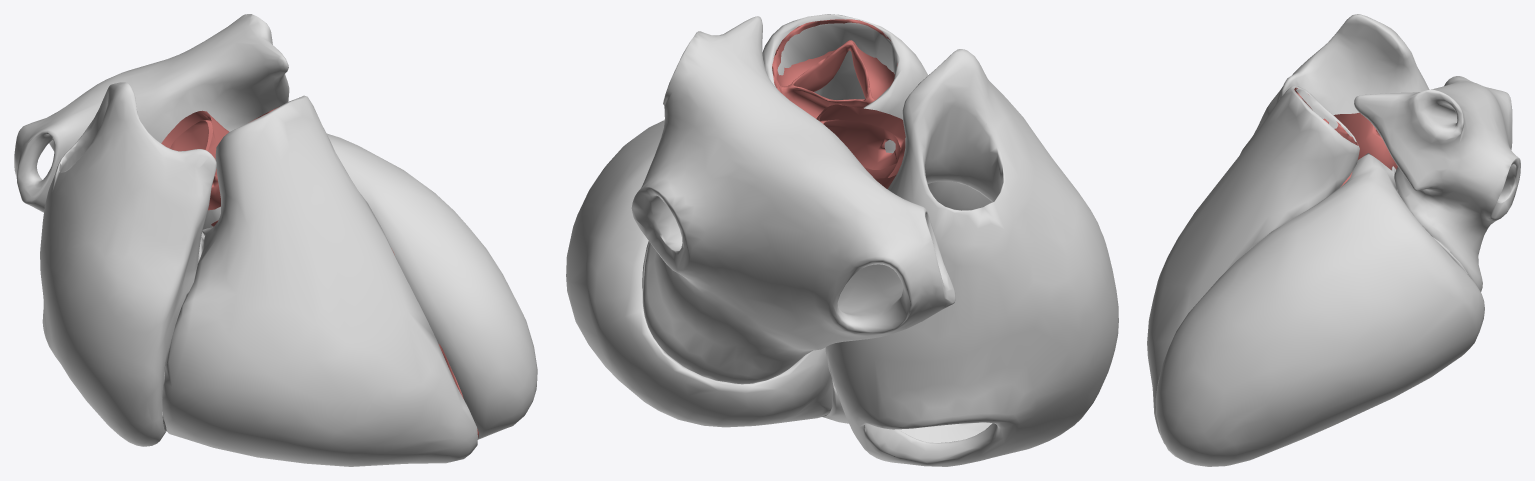
Rendered from vh_m_heart-20.fbx.
3 views of the same model, side by side, from view 1: azimuth 30°, elevation 25°; view 2: azimuth 150°, elevation 25°; view 3: azimuth 270°, elevation 25° (orthographic). The views are drawn at different scales.
Visible parts, largest first — view 1: VH_M_heart_right_ventricle, VH_M_right_cardiac_atrium, VH_M_heart_left_ventricle, VH_M_left_cardiac_atrium, VH_M_aortic_valve; view 2: VH_M_left_cardiac_atrium, VH_M_right_cardiac_atrium, VH_M_heart_left_ventricle, VH_M_heart_right_ventricle, VH_M_pulmonary_valve, VH_M_aortic_valve; view 3: VH_M_heart_left_ventricle, VH_M_heart_right_ventricle, VH_M_left_cardiac_atrium, VH_M_right_cardiac_atrium, VH_M_aortic_valve.
Boxes of the visible parts, left/top/right/bottom form: VH_M_heart_right_ventricle: left=162, top=95, right=477, bottom=466; VH_M_right_cardiac_atrium: left=40, top=82, right=216, bottom=446; VH_M_heart_left_ventricle: left=202, top=133, right=537, bottom=439; VH_M_left_cardiac_atrium: left=14, top=14, right=289, bottom=212; VH_M_aortic_valve: left=161, top=110, right=229, bottom=210; VH_M_left_cardiac_atrium: left=631, top=16, right=955, bottom=384; VH_M_right_cardiac_atrium: left=825, top=49, right=1118, bottom=466; VH_M_heart_left_ventricle: left=566, top=120, right=833, bottom=427; VH_M_heart_right_ventricle: left=762, top=14, right=928, bottom=423; VH_M_pulmonary_valve: left=772, top=19, right=897, bottom=118; VH_M_aortic_valve: left=816, top=104, right=905, bottom=188; VH_M_heart_left_ventricle: left=1155, top=153, right=1484, bottom=466; VH_M_heart_right_ventricle: left=1147, top=86, right=1359, bottom=443; VH_M_left_cardiac_atrium: left=1354, top=76, right=1520, bottom=291; VH_M_right_cardiac_atrium: left=1240, top=14, right=1429, bottom=154; VH_M_aortic_valve: left=1334, top=112, right=1397, bottom=169.
Size of the model in its own units: 12.43 by 10.54 by 10.53.
